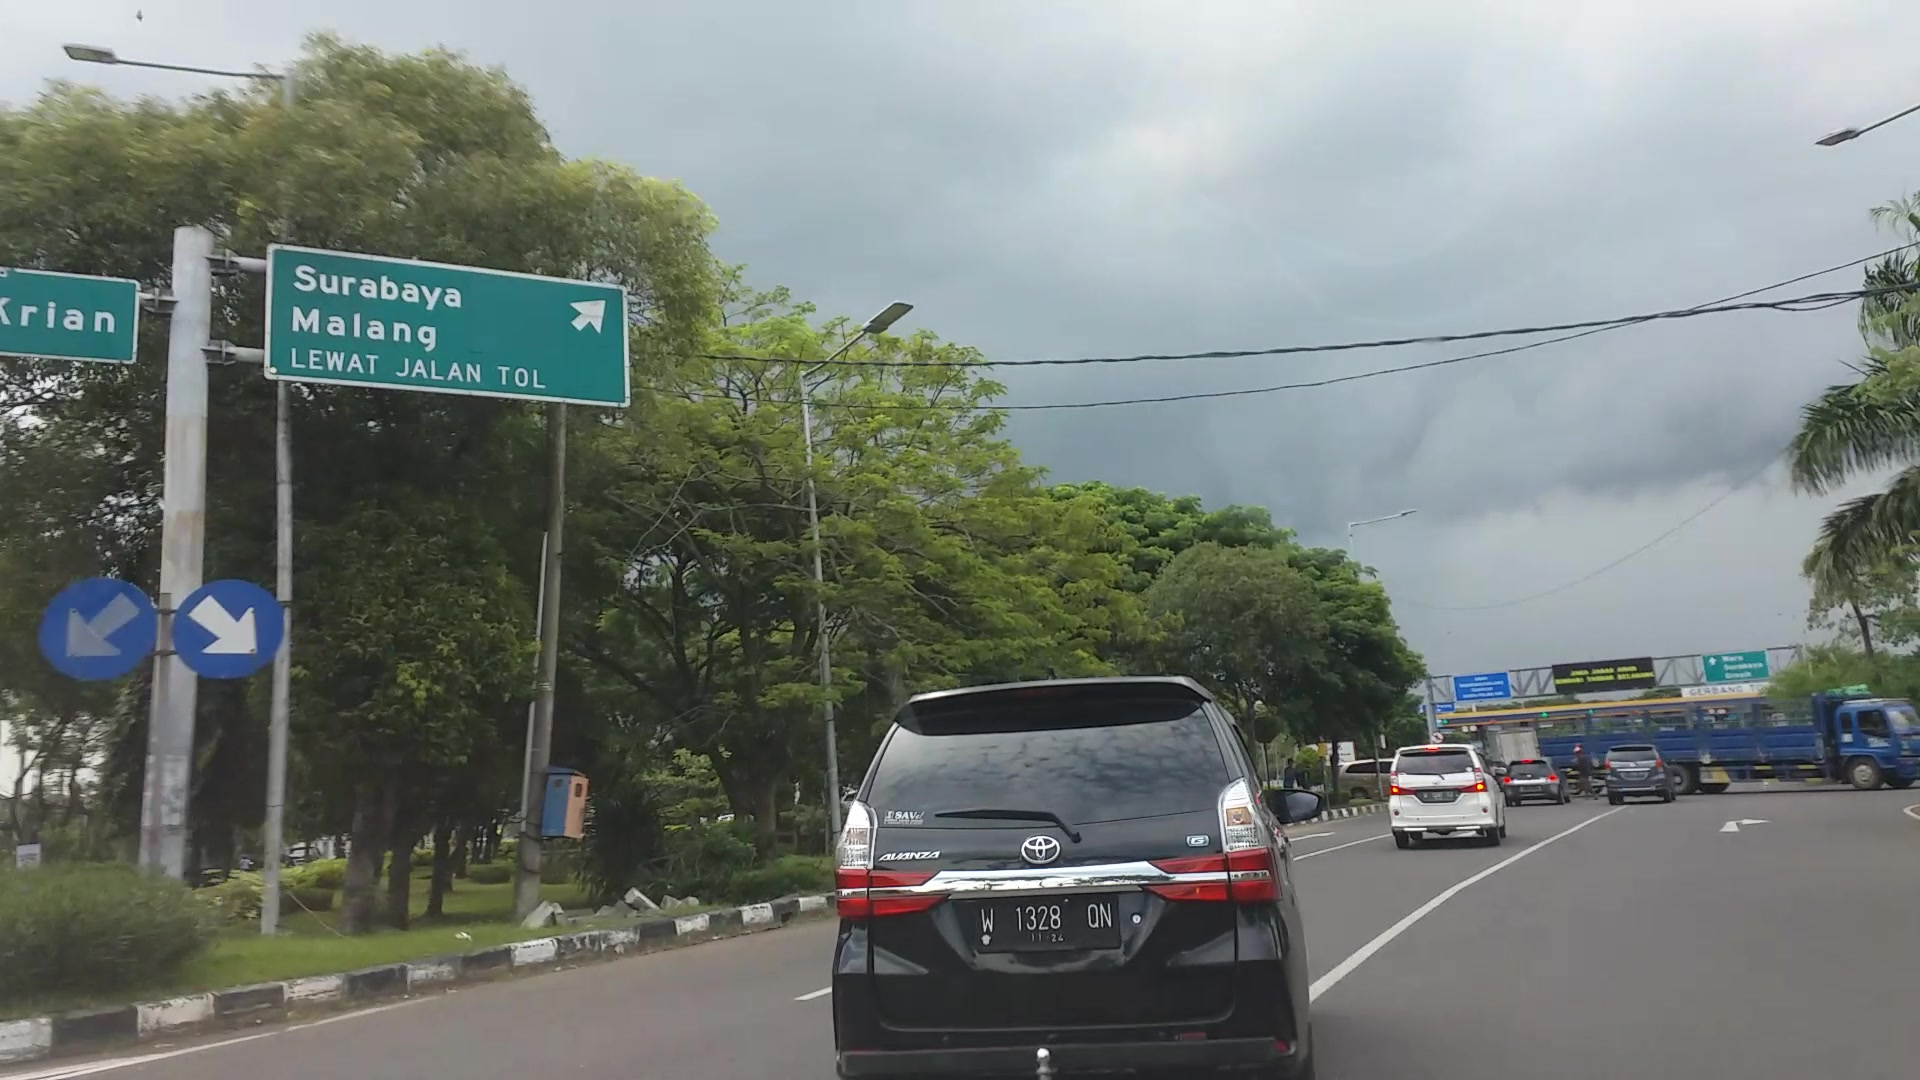plate_positive: (976, 897, 1118, 949)
